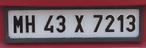1: (117, 14, 125, 33)
2: (105, 14, 116, 33)
3: (56, 15, 66, 33), (127, 14, 136, 33)
4: (43, 14, 55, 33)
7: (93, 12, 104, 33)
H: (25, 15, 38, 34)
M: (12, 15, 25, 35)
X: (74, 13, 87, 34)
